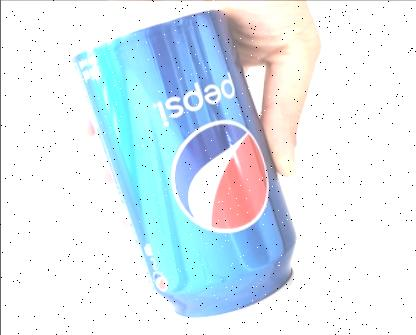Can: (67, 0, 299, 322)
